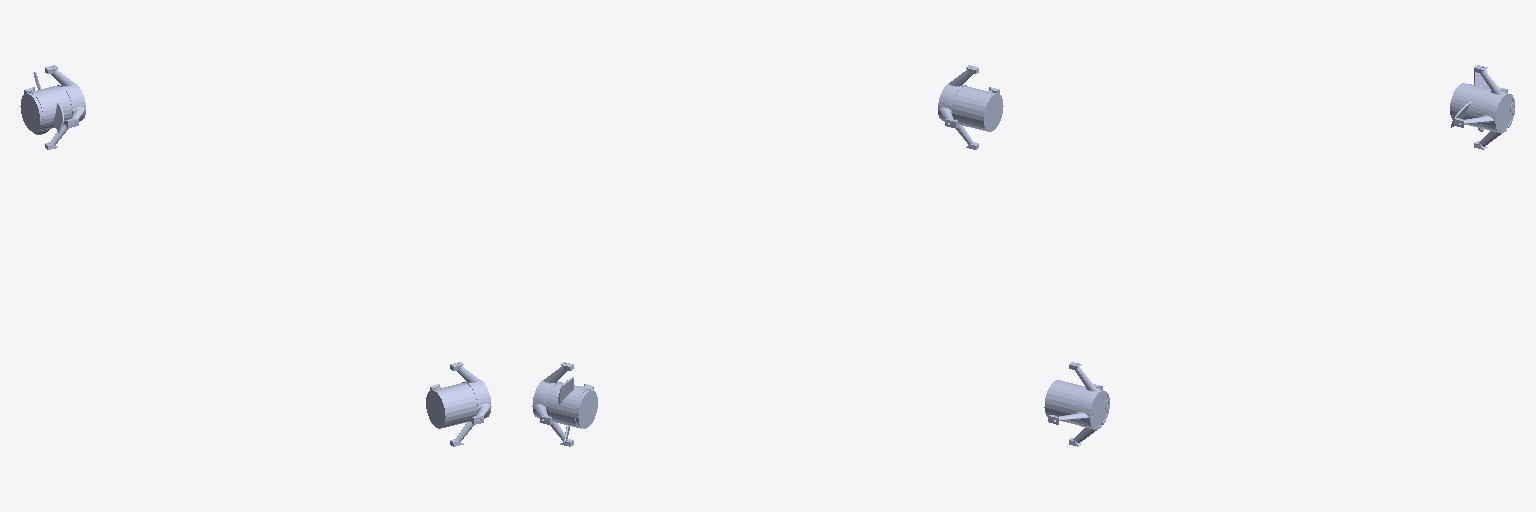
The robot description file, URDF, robot "boatcleaningd":
<?xml version="1.0" encoding="utf-8"?>
<!-- This URDF was automatically created by SolidWorks to URDF Exporter! Originally created by Stephen Brawner ([email redacted]) 
     Commit Version: 1.6.0-4-g7f85cfe  Build Version: 1.6.7995.38578
     For more information, please see http://wiki.ros.org/sw_urdf_exporter -->
<robot
  name="boatcleaningd">
  <link
    name="baseboatclening">
    <inertial>
      <origin
        xyz="-0.052968 7.6111E-07 0.24766"
        rpy="0 0 0" />
      <mass
        value="13.599" />
      <inertia
        ixx="0.125"
        ixy="9.4664E-07"
        ixz="-0.0014834"
        iyy="0.096195"
        iyz="8.2617E-06"
        izz="0.13644" />
    </inertial>
    <visual>
      <origin
        xyz="0 0 0"
        rpy="0 0 0" />
      <geometry>
        <mesh
          filename="package://boatcleaningd/meshes/baseboatclening.STL" />
      </geometry>
      <material
        name="">
        <color
          rgba="1 1 1 1" />
      </material>
    </visual>
    <collision>
      <origin
        xyz="0 0 0"
        rpy="0 0 0" />
      <geometry>
        <mesh
          filename="package://boatcleaningd/meshes/baseboatclening.STL" />
      </geometry>
    </collision>
  </link>
  <link
    name="axegauche">
    <inertial>
      <origin
        xyz="1.27980339592604E-06 -4.87536581963988E-06 0.0164902227581927"
        rpy="0 0 0" />
      <mass
        value="0.0667653794483585" />
      <inertia
        ixx="2.27687803802025E-05"
        ixy="-1.64257271106359E-09"
        ixz="-1.94711082041723E-09"
        iyy="2.27919562045217E-05"
        iyz="7.33475975049114E-09"
        izz="1.69007967588849E-05" />
    </inertial>
    <visual>
      <origin
        xyz="0 0 0"
        rpy="0 0 0" />
      <geometry>
        <mesh
          filename="package://boatcleaningd/meshes/axegauche.STL" />
      </geometry>
      <material
        name="">
        <color
          rgba="0.792156862745098 0.819607843137255 0.933333333333333 1" />
      </material>
    </visual>
    <collision>
      <origin
        xyz="0 0 0"
        rpy="0 0 0" />
      <geometry>
        <mesh
          filename="package://boatcleaningd/meshes/axegauche.STL" />
      </geometry>
    </collision>
  </link>
  <joint
    name="axegauchejoint"
    type="fixed">
    <origin
      xyz="-0.30329 0.39873 0.046"
      rpy="-1.5708 -0.0017453 -1.5708" />
    <parent
      link="baseboatclening" />
    <child
      link="axegauche" />
    <axis
      xyz="0 0 0" />
  </joint>
  <link
    name="fangauche">
    <inertial>
      <origin
        xyz="0.0121880649596038 -1.96166327626202E-09 4.4580179797693E-08"
        rpy="0 0 0" />
      <mass
        value="0.00795785659641876" />
      <inertia
        ixx="3.72710558894515E-06"
        ixy="2.12970221795389E-13"
        ixz="-8.34019277804446E-13"
        iyy="2.39331655167285E-06"
        iyz="-4.61638273468624E-10"
        izz="2.39447831194742E-06" />
    </inertial>
    <visual>
      <origin
        xyz="0 0 0"
        rpy="0 0 0" />
      <geometry>
        <mesh
          filename="package://boatcleaningd/meshes/fangauche.STL" />
      </geometry>
      <material
        name="">
        <color
          rgba="0.792156862745098 0.819607843137255 0.933333333333333 1" />
      </material>
    </visual>
    <collision>
      <origin
        xyz="0 0 0"
        rpy="0 0 0" />
      <geometry>
        <mesh
          filename="package://boatcleaningd/meshes/fangauche.STL" />
      </geometry>
    </collision>
  </link>
  <joint
    name="fangauchejoint"
    type="continuous">
    <origin
      xyz="0 0 -0.0065208"
      rpy="1.5691 -1.5708 0" />
    <parent
      link="axegauche" />
    <child
      link="fangauche" />
    <axis
      xyz="1 0 0" />
  </joint>
  <link
    name="axedroit">
    <inertial>
      <origin
        xyz="1.27706300609431E-06 -4.87768385248888E-06 0.0164902268079528"
        rpy="0 0 0" />
      <mass
        value="0.0667653874530656" />
      <inertia
        ixx="2.27687841690494E-05"
        ixy="-1.64569925594943E-09"
        ixz="-1.94169064678966E-09"
        iyy="2.2791962798787E-05"
        iyz="7.33603381553864E-09"
        izz="1.6900800530698E-05" />
    </inertial>
    <visual>
      <origin
        xyz="0 0 0"
        rpy="0 0 0" />
      <geometry>
        <mesh
          filename="package://boatcleaningd/meshes/axedroit.STL" />
      </geometry>
      <material
        name="">
        <color
          rgba="0.792156862745098 0.819607843137255 0.933333333333333 1" />
      </material>
    </visual>
    <collision>
      <origin
        xyz="0 0 0"
        rpy="0 0 0" />
      <geometry>
        <mesh
          filename="package://boatcleaningd/meshes/axedroit.STL" />
      </geometry>
    </collision>
  </link>
  <joint
    name="axedroitjoint"
    type="fixed">
    <origin
      xyz="-0.30329 -0.40127 0.046"
      rpy="-1.5708 -0.0017453 -1.5708" />
    <parent
      link="baseboatclening" />
    <child
      link="axedroit" />
    <axis
      xyz="0 0 0" />
  </joint>
  <link
    name="fandroit">
    <inertial>
      <origin
        xyz="0.0111720649596023 -1.96166084764915E-09 4.45801802001489E-08"
        rpy="0 0 0" />
      <mass
        value="0.0079578565964185" />
      <inertia
        ixx="3.72710558894501E-06"
        ixy="2.12970222260678E-13"
        ixz="-8.34019270406672E-13"
        iyy="2.39331655167276E-06"
        iyz="-4.6163827347066E-10"
        izz="2.39447831194737E-06" />
    </inertial>
    <visual>
      <origin
        xyz="0 0 0"
        rpy="0 0 0" />
      <geometry>
        <mesh
          filename="package://boatcleaningd/meshes/fandroit.STL" />
      </geometry>
      <material
        name="">
        <color
          rgba="0.792156862745098 0.819607843137255 0.933333333333333 1" />
      </material>
    </visual>
    <collision>
      <origin
        xyz="0 0 0"
        rpy="0 0 0" />
      <geometry>
        <mesh
          filename="package://boatcleaningd/meshes/fandroit.STL" />
      </geometry>
    </collision>
  </link>
  <joint
    name="fandroitjoint"
    type="continuous">
    <origin
      xyz="0 0 -0.0055047"
      rpy="1.5691 -1.5708 0" />
    <parent
      link="axedroit" />
    <child
      link="fandroit" />
    <axis
      xyz="1 0 0" />
  </joint>
</robot>

--- Render facts (derived) ---
Views: 3 orthographic renders of the robot side by side, from view 1: azimuth 30°, elevation 25°; view 2: azimuth 150°, elevation 25°; view 3: azimuth 330°, elevation 25°.
Robot: boatcleaningd — 5 links, 4 joints (2 continuous, 2 fixed); root link baseboatclening; default pose: all joints at 0.
Visible links, largest first — view 1: axedroit, axegauche, fangauche; view 2: axedroit, axegauche, fangauche; view 3: axedroit, axegauche, fangauche.
Boxes of the visible links, x1,y1,x2,y2 form: axedroit: (426, 362, 491, 446); axegauche: (20, 65, 85, 149); fangauche: (28, 72, 69, 134); axedroit: (938, 65, 1003, 149); axegauche: (532, 362, 597, 446); fangauche: (549, 377, 593, 443); axedroit: (1044, 362, 1109, 446); axegauche: (1450, 65, 1514, 149); fangauche: (1451, 69, 1490, 131).
Bounding box of the posed robot: 0.052 × 0.8874 × 0.0874 m (x, y, z).
3 mesh visuals loaded from 5 distinct referenced files (3 binary STL); not drawn: 2 (reference not matched to a file when rendering).
